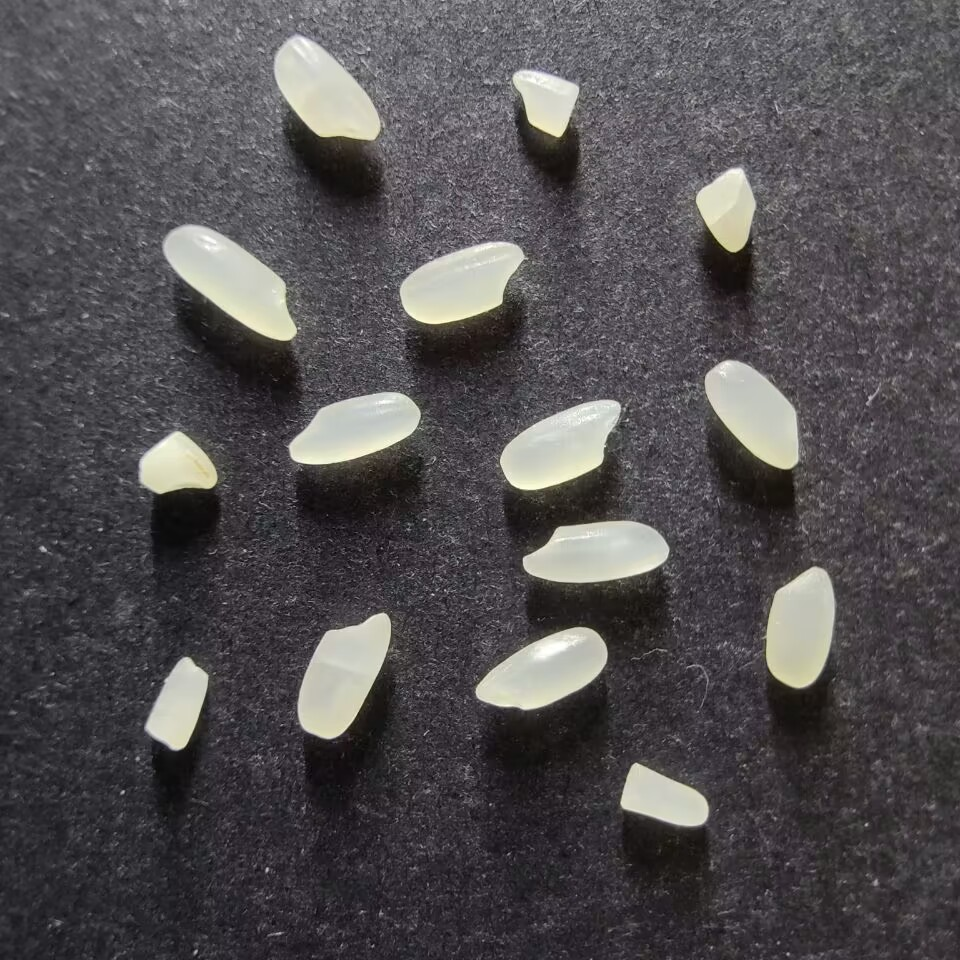broken: (142, 654, 212, 754), (616, 759, 712, 828), (692, 163, 758, 254), (137, 427, 220, 498), (510, 68, 580, 139)
rice: (158, 223, 299, 342), (294, 609, 391, 741), (271, 33, 383, 143), (497, 396, 624, 491), (473, 624, 609, 712), (398, 239, 528, 326), (702, 358, 802, 470), (286, 390, 422, 466), (520, 520, 672, 585), (764, 564, 837, 690)
